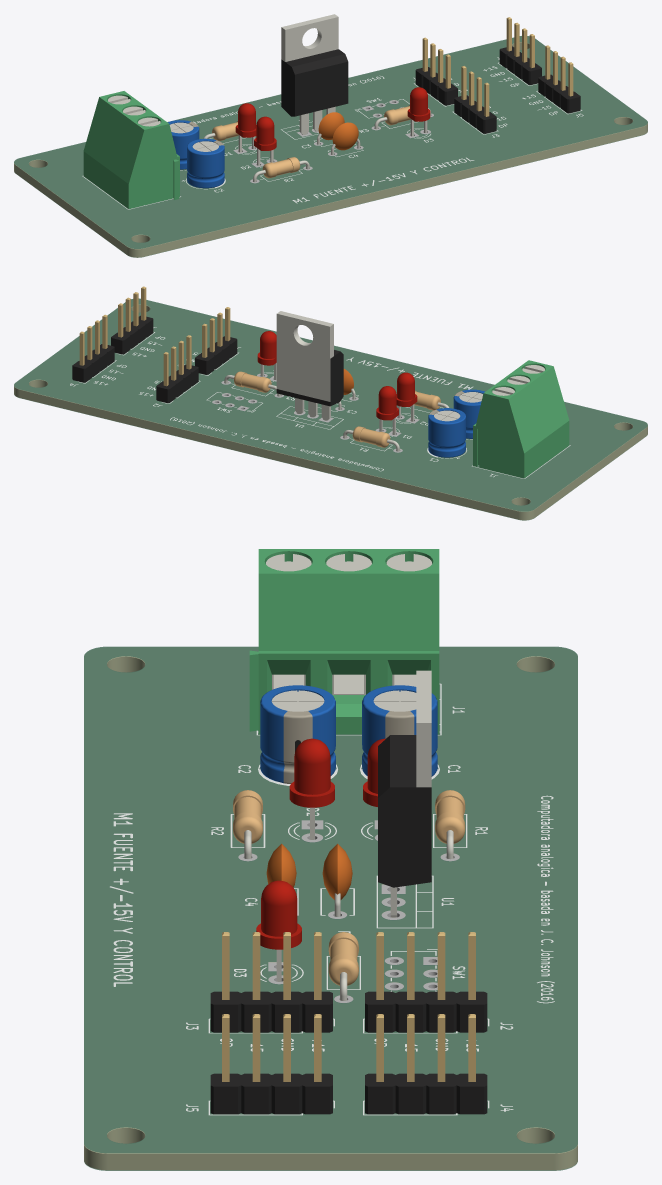
File: placa.glb
The picture shows the model from 3 angles, top to bottom: view 1: azimuth 30°, elevation 25°; view 2: azimuth 150°, elevation 25°; view 3: azimuth 270°, elevation 25°; orthographic projection. The views are drawn at different scales.
Parts seen in each view (by area): view 1: =>[0:1:1:20], =>[0:1:1:18], =>[0:1:1:15], =>[0:1:1:7] (×4), =>[0:1:1:11], =>[0:1:1:5] (×2), =>[0:1:1:3] (×3), =>[0:1:1:17], =>[0:1:1:9] (×3), =>[0:1:1:13] (×2), =>[0:1:1:16], =>[0:1:1:19]; view 2: =>[0:1:1:20], =>[0:1:1:18], =>[0:1:1:15], =>[0:1:1:7] (×4), =>[0:1:1:11], =>[0:1:1:5] (×2), =>[0:1:1:3] (×3), =>[0:1:1:17], =>[0:1:1:9] (×3), =>[0:1:1:16], =>[0:1:1:19]; view 3: =>[0:1:1:20], =>[0:1:1:18], =>[0:1:1:15], =>[0:1:1:7] (×4), =>[0:1:1:11], =>[0:1:1:5] (×2), =>[0:1:1:17], =>[0:1:1:3] (×2), =>[0:1:1:9] (×3), =>[0:1:1:13] (×2), =>[0:1:1:16].
Part boxes in pixels (left/top/right/bottom): =>[0:1:1:20]: left=14, top=36, right=647, bottom=257; =>[0:1:1:18]: left=14, top=36, right=647, bottom=248; =>[0:1:1:15]: left=83, top=91, right=179, bottom=208; =>[0:1:1:7] (×4): left=415, top=17, right=580, bottom=133; =>[0:1:1:11]: left=281, top=14, right=348, bottom=134; =>[0:1:1:5] (×2): left=168, top=120, right=224, bottom=188; =>[0:1:1:3] (×3): left=235, top=87, right=430, bottom=165; =>[0:1:1:17]: left=82, top=57, right=583, bottom=209; =>[0:1:1:9] (×3): left=203, top=105, right=431, bottom=182; =>[0:1:1:13] (×2): left=317, top=112, right=360, bottom=154; =>[0:1:1:16]: left=233, top=100, right=433, bottom=183; =>[0:1:1:19]: left=14, top=132, right=647, bottom=257; =>[0:1:1:20]: left=14, top=299, right=647, bottom=520; =>[0:1:1:18]: left=14, top=298, right=647, bottom=511; =>[0:1:1:15]: left=473, top=360, right=569, bottom=478; =>[0:1:1:7] (×4): left=72, top=286, right=237, bottom=403; =>[0:1:1:11]: left=276, top=311, right=343, bottom=420; =>[0:1:1:5] (×2): left=428, top=389, right=484, bottom=457; =>[0:1:1:3] (×3): left=257, top=331, right=417, bottom=434; =>[0:1:1:17]: left=70, top=327, right=570, bottom=478; =>[0:1:1:9] (×3): left=224, top=371, right=449, bottom=451; =>[0:1:1:16]: left=212, top=373, right=419, bottom=452; =>[0:1:1:19]: left=14, top=395, right=647, bottom=520; =>[0:1:1:20]: left=84, top=647, right=577, bottom=1170; =>[0:1:1:18]: left=84, top=646, right=577, bottom=1153; =>[0:1:1:15]: left=249, top=549, right=439, bottom=734; =>[0:1:1:7] (×4): left=210, top=932, right=487, bottom=1114; =>[0:1:1:11]: left=378, top=670, right=431, bottom=917; =>[0:1:1:5] (×2): left=260, top=685, right=437, bottom=783; =>[0:1:1:17]: left=110, top=683, right=554, bottom=1115; =>[0:1:1:3] (×2): left=256, top=738, right=334, bottom=981; =>[0:1:1:9] (×3): left=233, top=790, right=465, bottom=1000; =>[0:1:1:13] (×2): left=266, top=843, right=352, bottom=916; =>[0:1:1:16]: left=238, top=820, right=459, bottom=1002.
Size of the model in its own units: 0.0995 by 0.0285 by 0.041.
